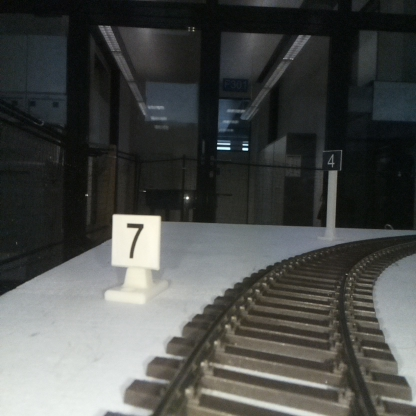black-info-4: (322, 150, 340, 238)
white-stop-7: (112, 214, 159, 300)
